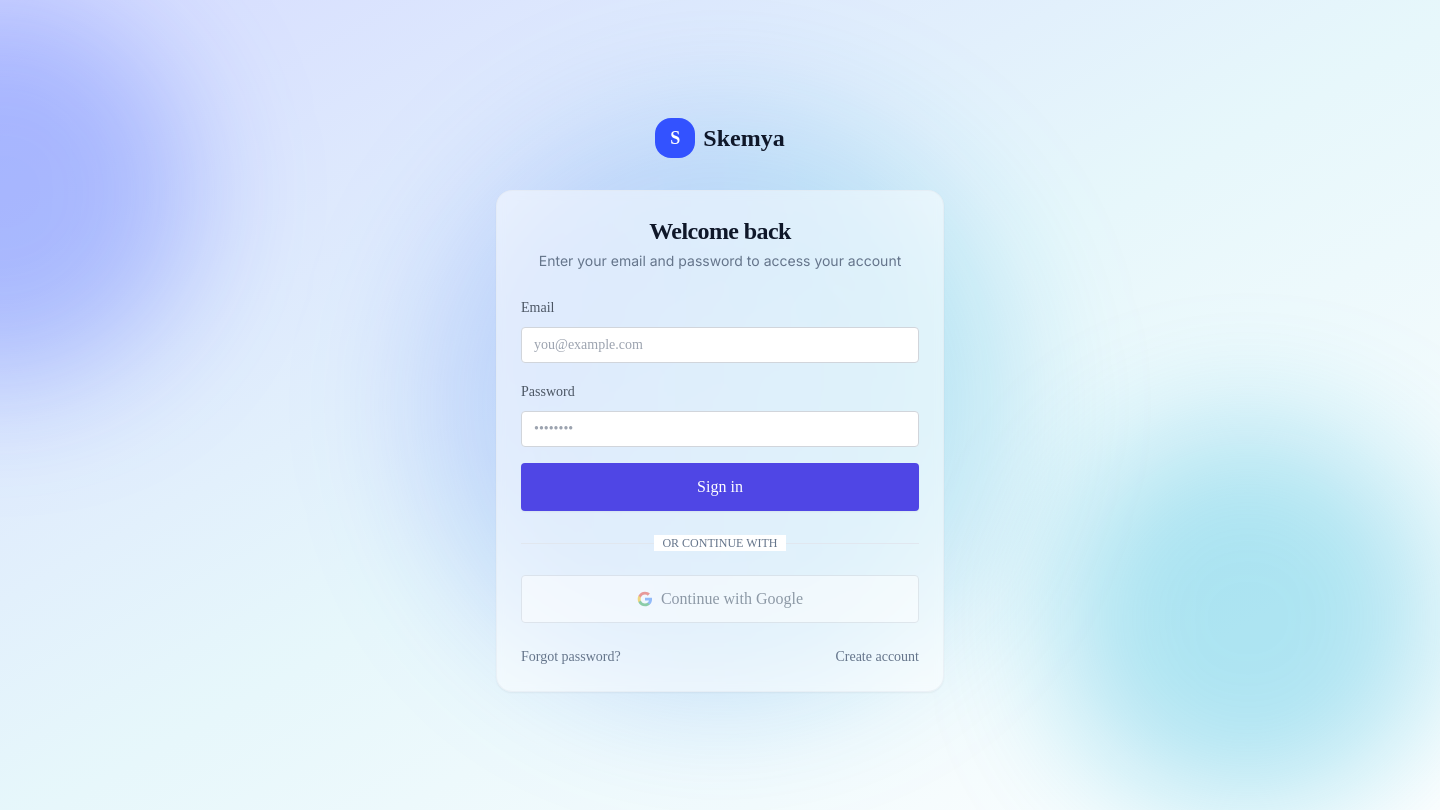
Test: LoginPage › shows error message on login failure
This screenshot has width=1440, height=810.
Type "test@example.com" into the field labelled "Email" at (720, 345), box [521,327,919,363]
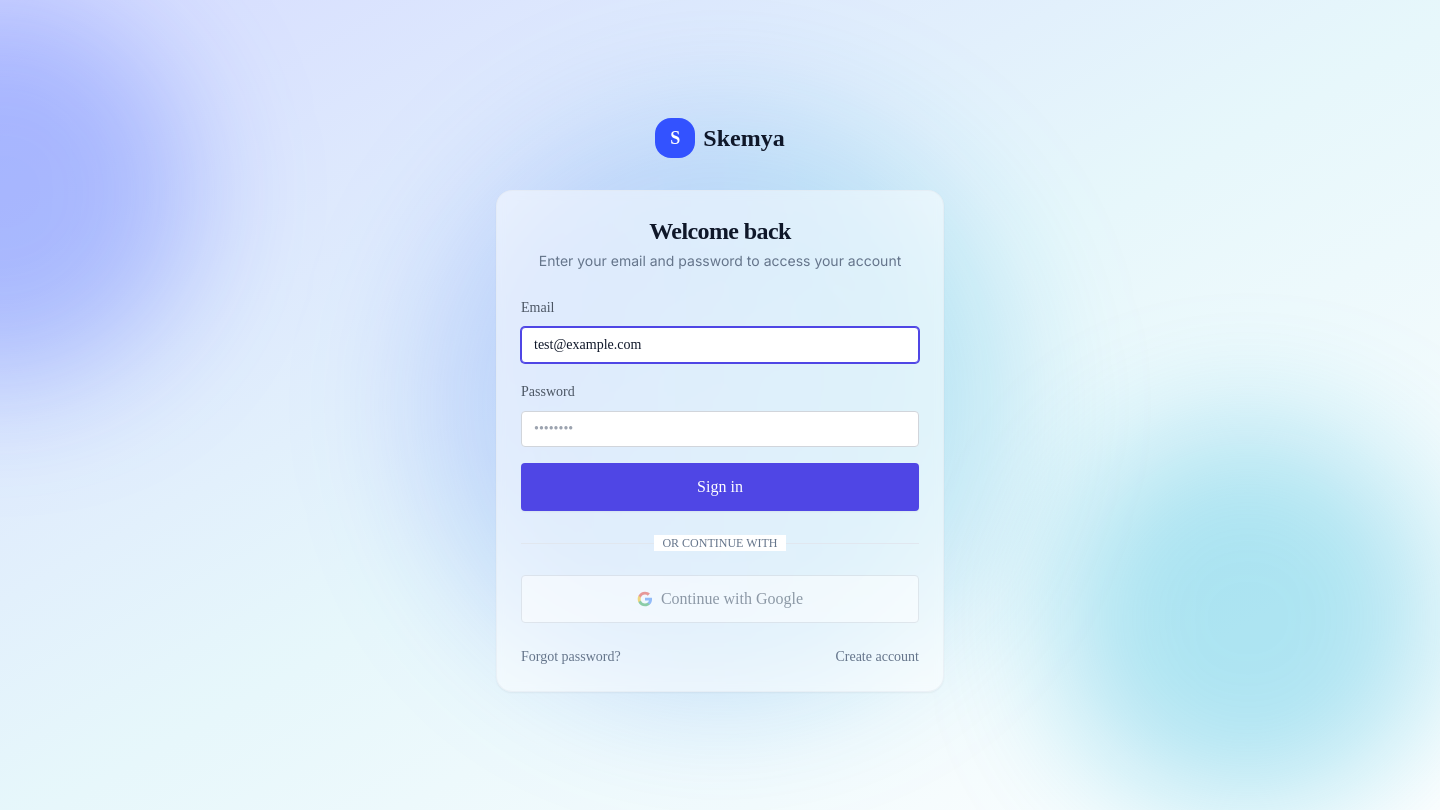
Type "wrongpassword" into the password field labelled "Password" at (720, 429), box [521,411,919,447]
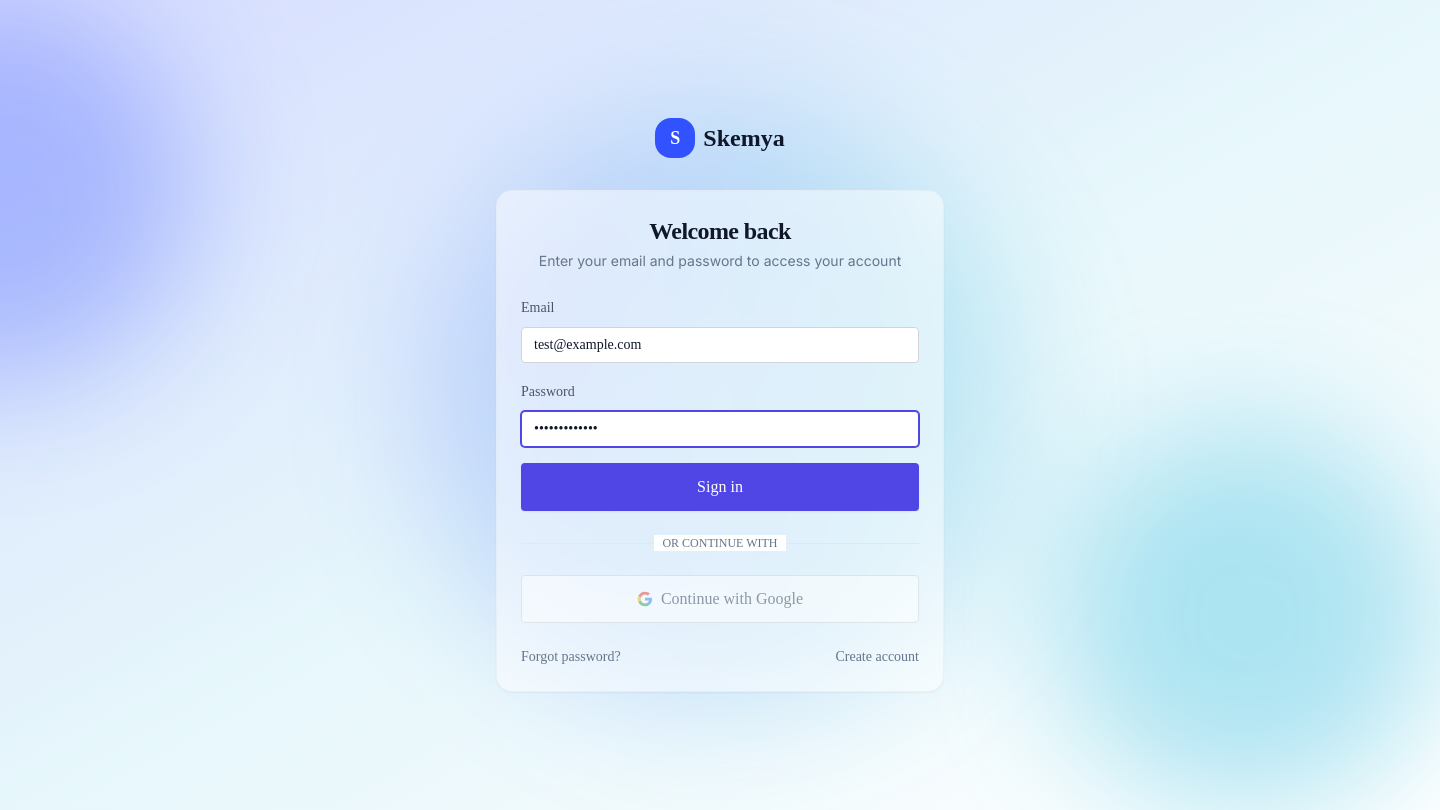
Click the button "Sign in" at (720, 487), box [521,463,919,511]
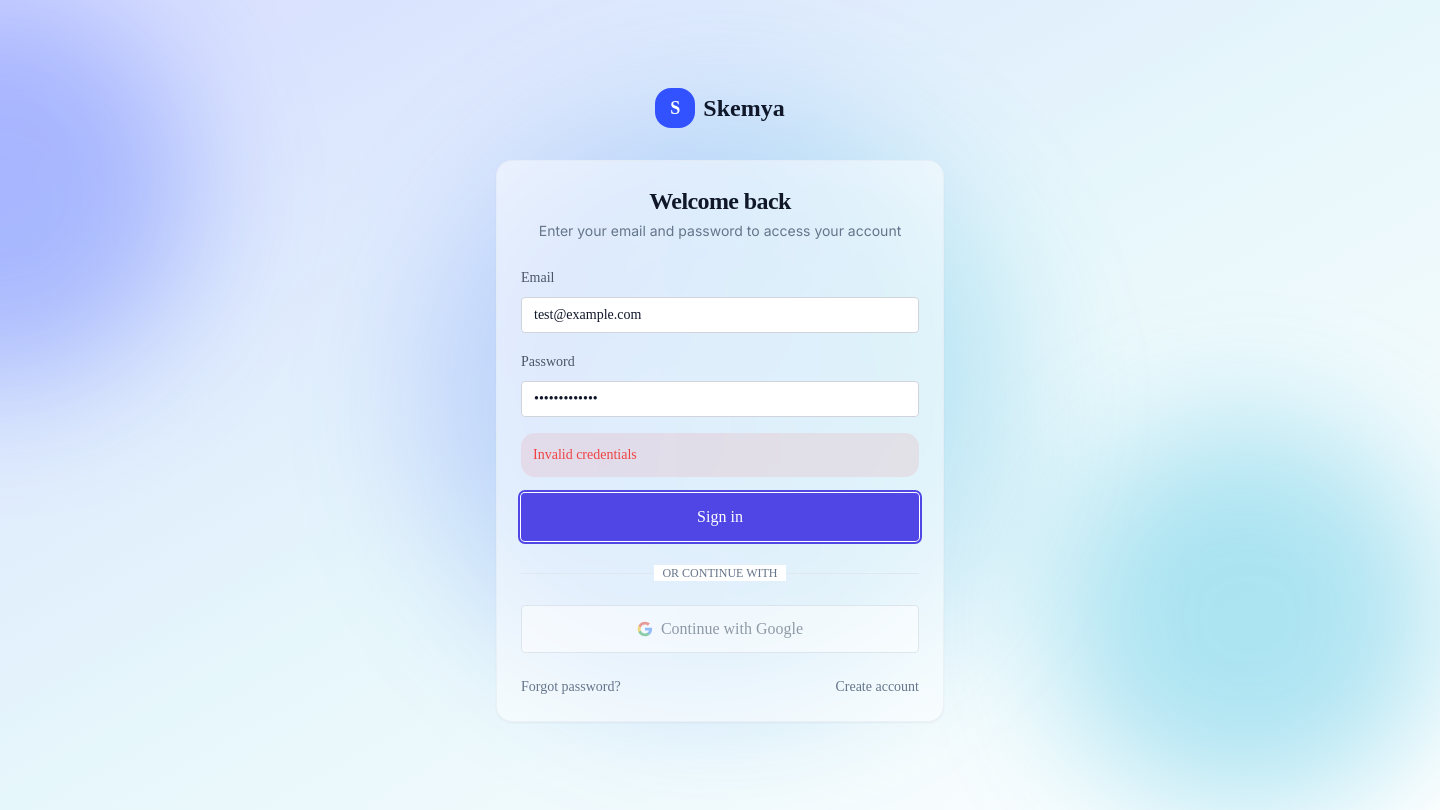
expect the text "Invalid credentials" is shown: met, box [521,433,919,477]
